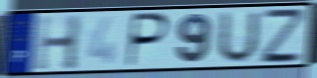4: (86, 15, 121, 68)
9: (174, 12, 213, 66)
H: (34, 13, 84, 73)
P: (124, 12, 172, 69)
U: (214, 9, 261, 66)
Z: (259, 7, 305, 66)
